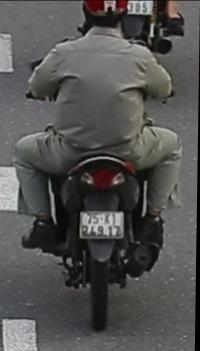LP: (78, 206, 128, 240)
